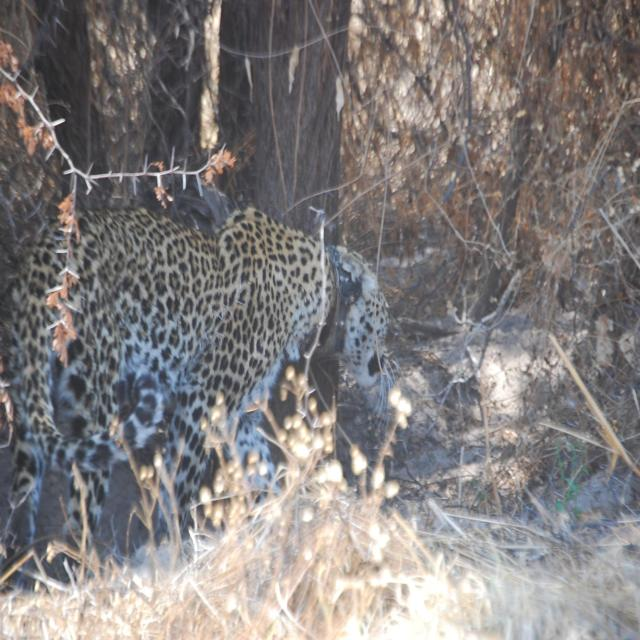Leopard: (7, 195, 424, 546)
